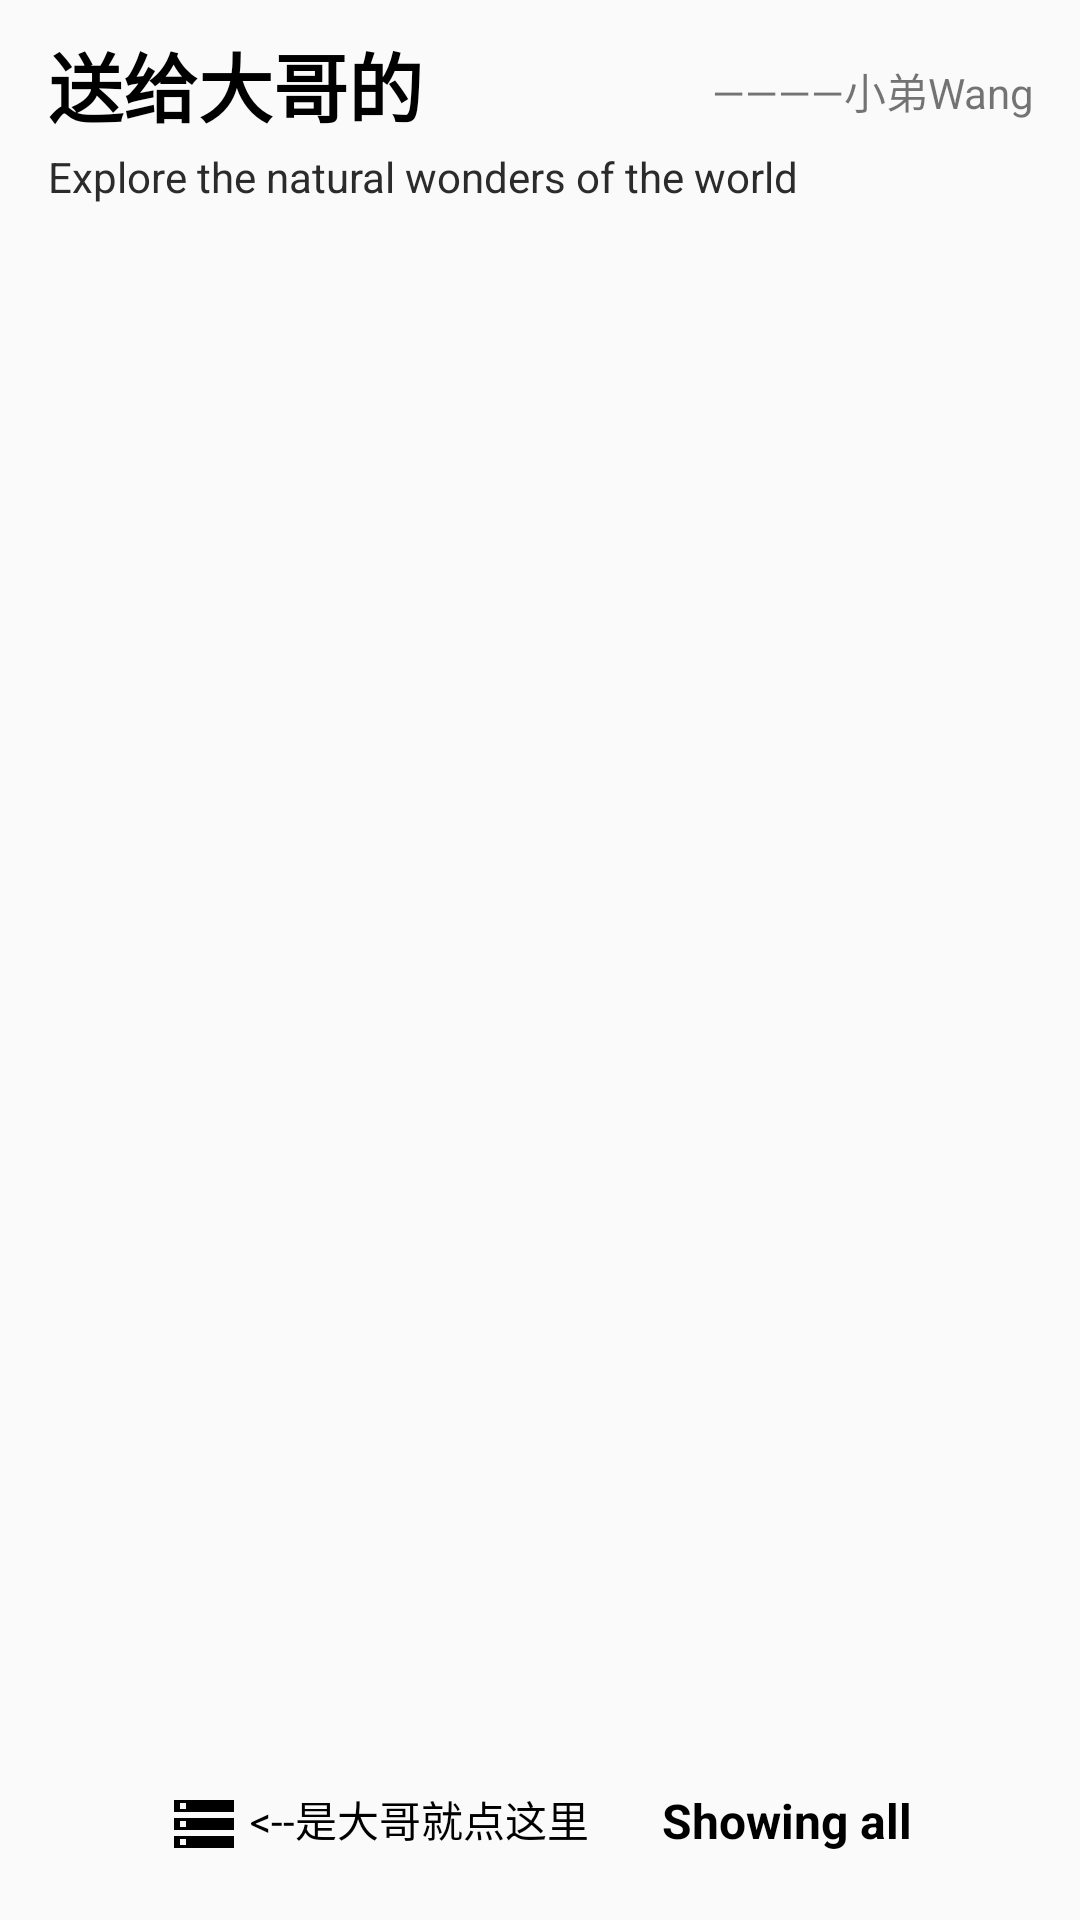

Named icons in this screenshot (1080 x 1920) and their centers, (x=x, y=y):
storage: (x=204, y=1824)
